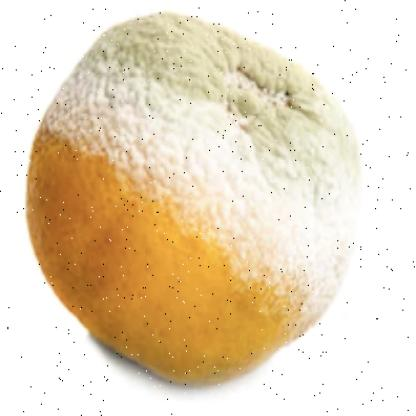rotten: (28, 12, 364, 391)
